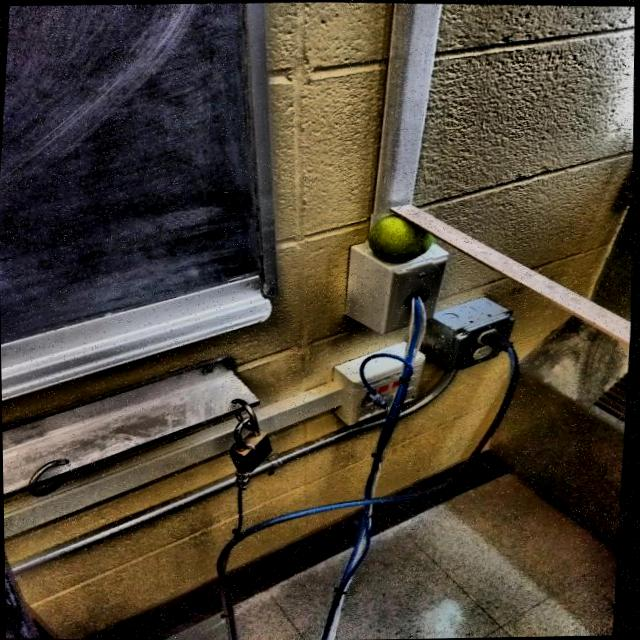Tennis Ball: (365, 212, 440, 273)
